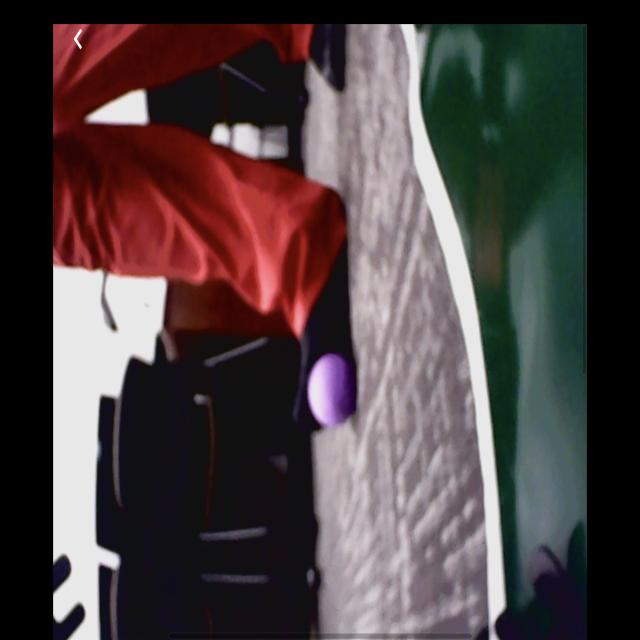ball: (308, 356, 356, 426)
